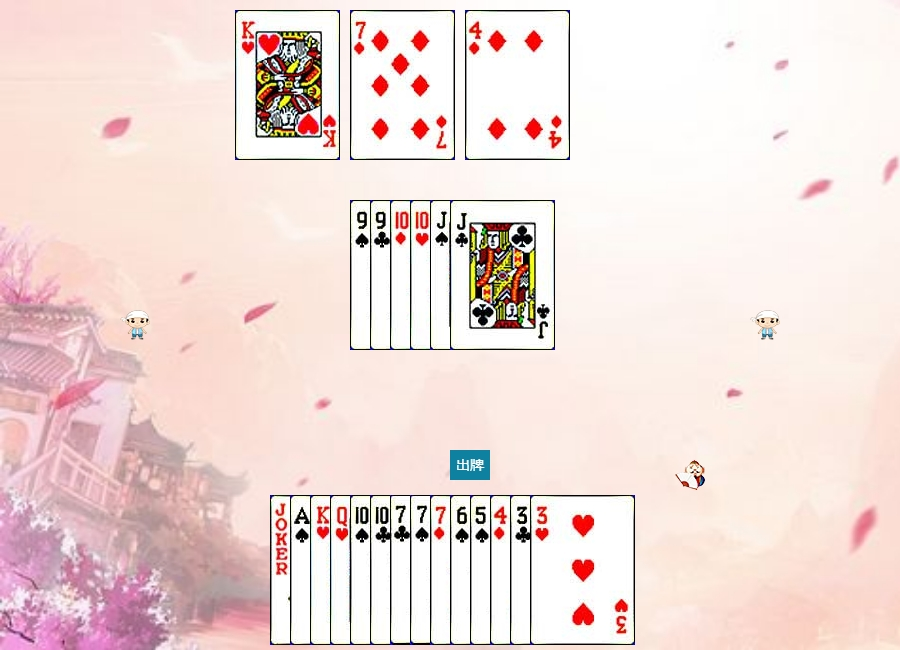10~1: (390, 200, 495, 350)
10~2: (370, 495, 475, 645)
10~3: (410, 200, 515, 350)
10~4: (350, 495, 455, 645)
11~2: (450, 200, 555, 350)
11~4: (430, 200, 535, 350)
12~3: (330, 495, 435, 645)
13~3: (235, 10, 340, 160), (310, 495, 415, 645)
14~4: (290, 495, 395, 645)
18~4: (270, 495, 375, 645)
3~2: (510, 495, 615, 645)
3~3: (530, 495, 635, 645)
4~1: (465, 10, 570, 160), (490, 495, 595, 645)
5~4: (470, 495, 575, 645)
6~4: (450, 495, 555, 645)
7~1: (350, 10, 455, 160), (430, 495, 535, 645)
7~2: (390, 495, 495, 645)
7~4: (410, 495, 515, 645)
9~2: (370, 200, 475, 350)
9~4: (350, 200, 455, 350)
